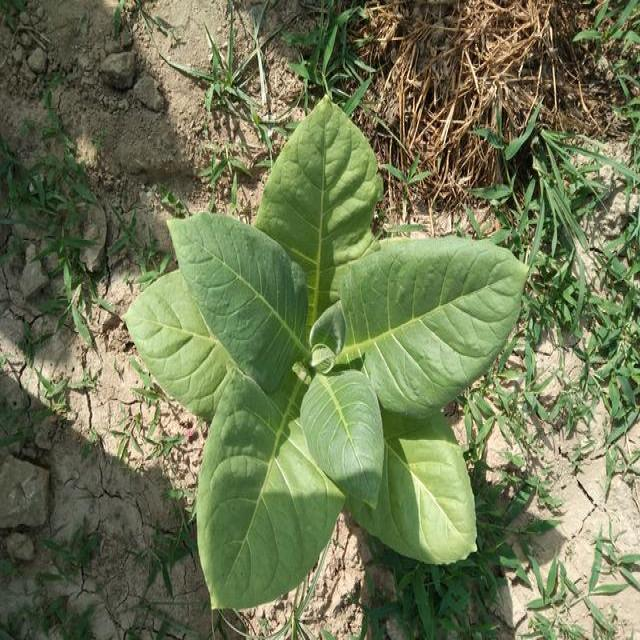crop: (120, 96, 532, 618)
